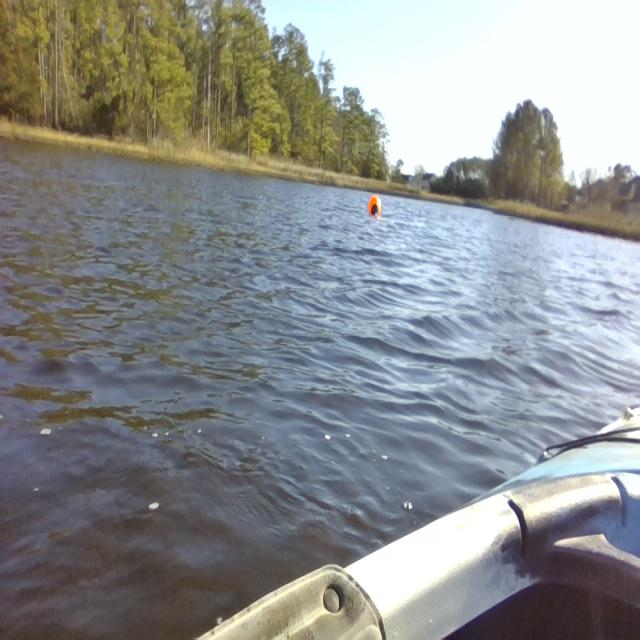Buoy: (359, 188, 386, 224)
